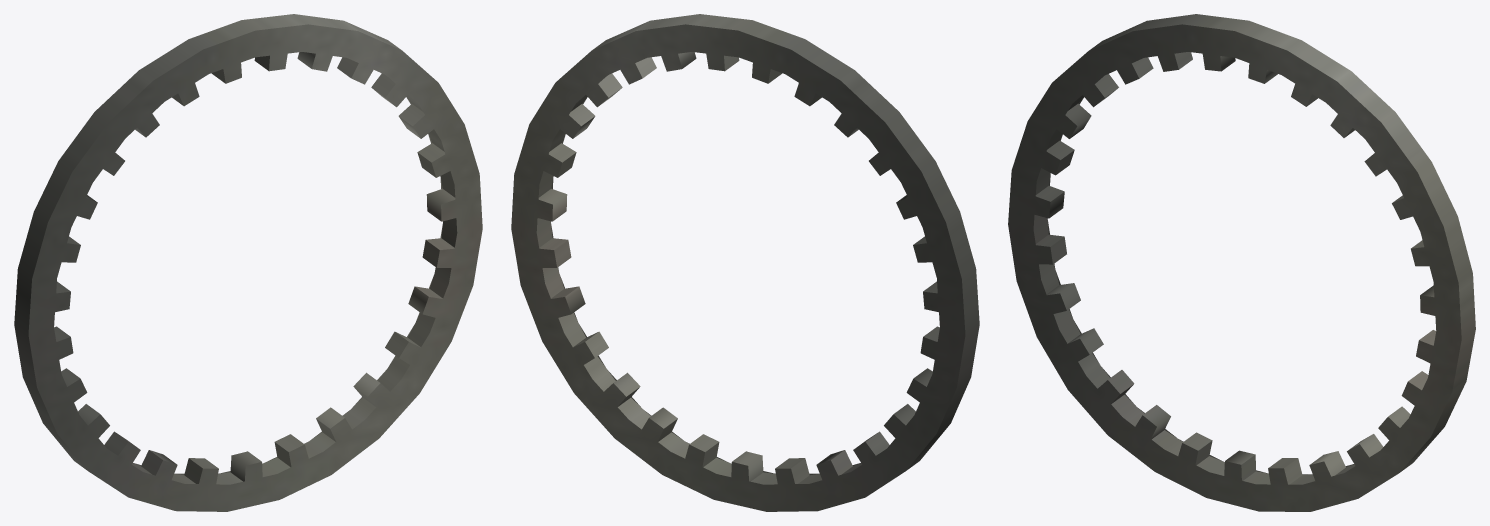
File: around.obj
3 views of the same model, side by side, from view 1: azimuth 30°, elevation 25°; view 2: azimuth 150°, elevation 25°; view 3: azimuth 330°, elevation 25° (orthographic).
Parts seen in each view (by area): view 1: aroundGear; view 2: aroundGear; view 3: aroundGear.
Boxes of the visible parts, x1,y1,x2,y2 form: aroundGear: [14, 14, 482, 511]; aroundGear: [511, 14, 979, 511]; aroundGear: [1008, 14, 1475, 511].
Size of the model in its own units: 0.9972 by 0.997 by 0.0542.
1 material, 1 textured.
